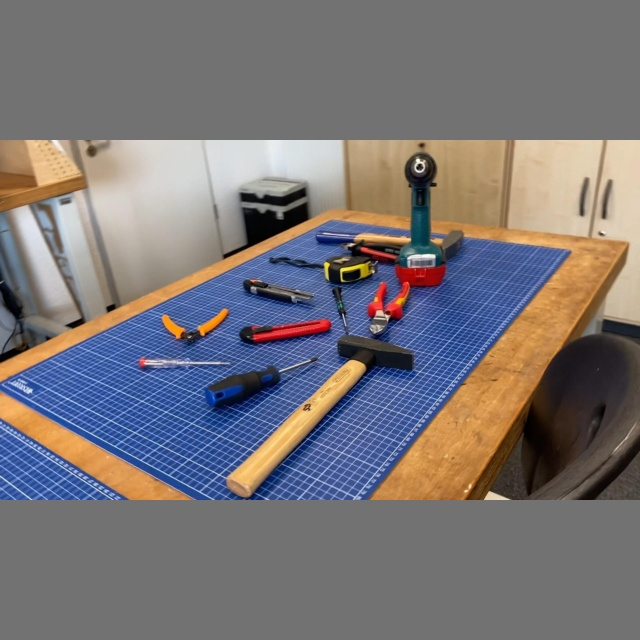drill: (394, 150, 447, 288)
screwdriver: (203, 355, 320, 410), (137, 356, 232, 371), (331, 285, 350, 334)
